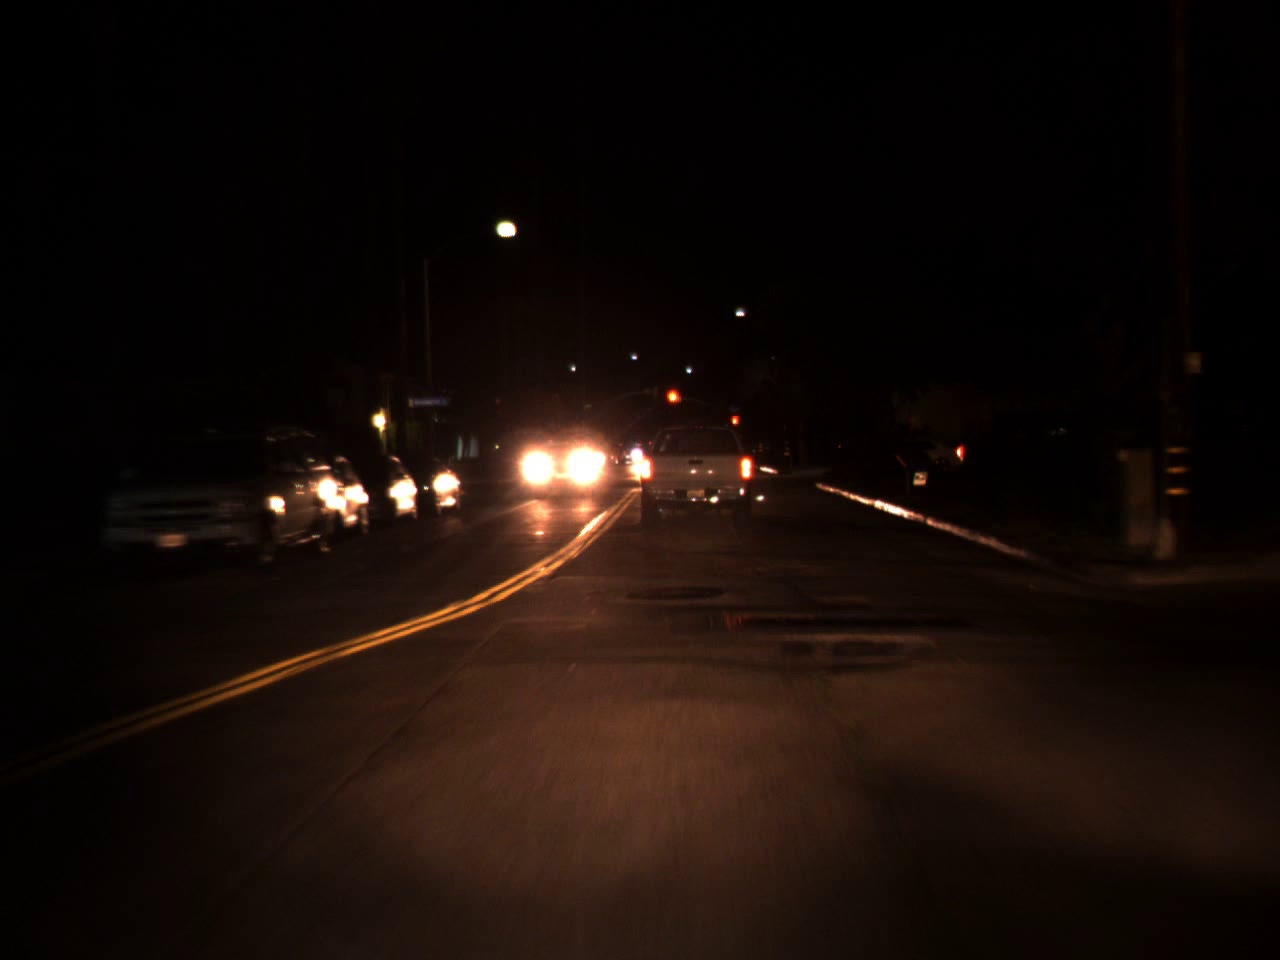stop: (665, 388, 681, 417), (730, 414, 739, 435)
